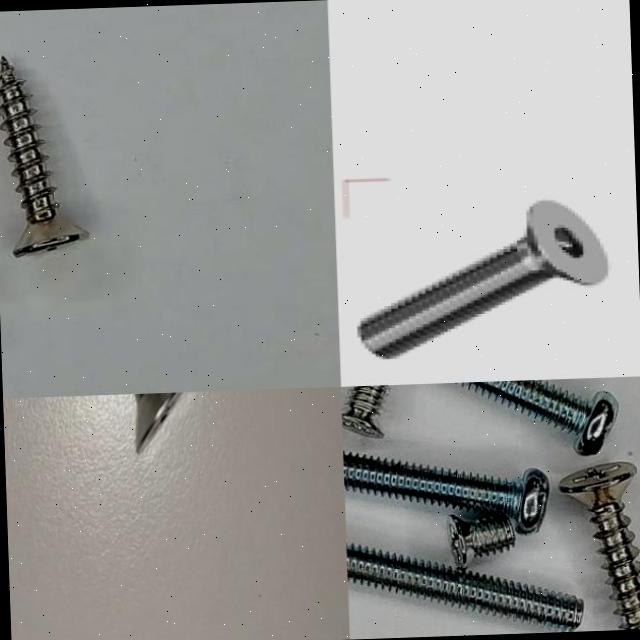Screw: (353, 198, 607, 358), (346, 544, 582, 632), (0, 56, 88, 257), (343, 451, 549, 534), (559, 462, 640, 630), (459, 379, 618, 454), (446, 515, 514, 569), (134, 392, 183, 454), (341, 385, 387, 437)
